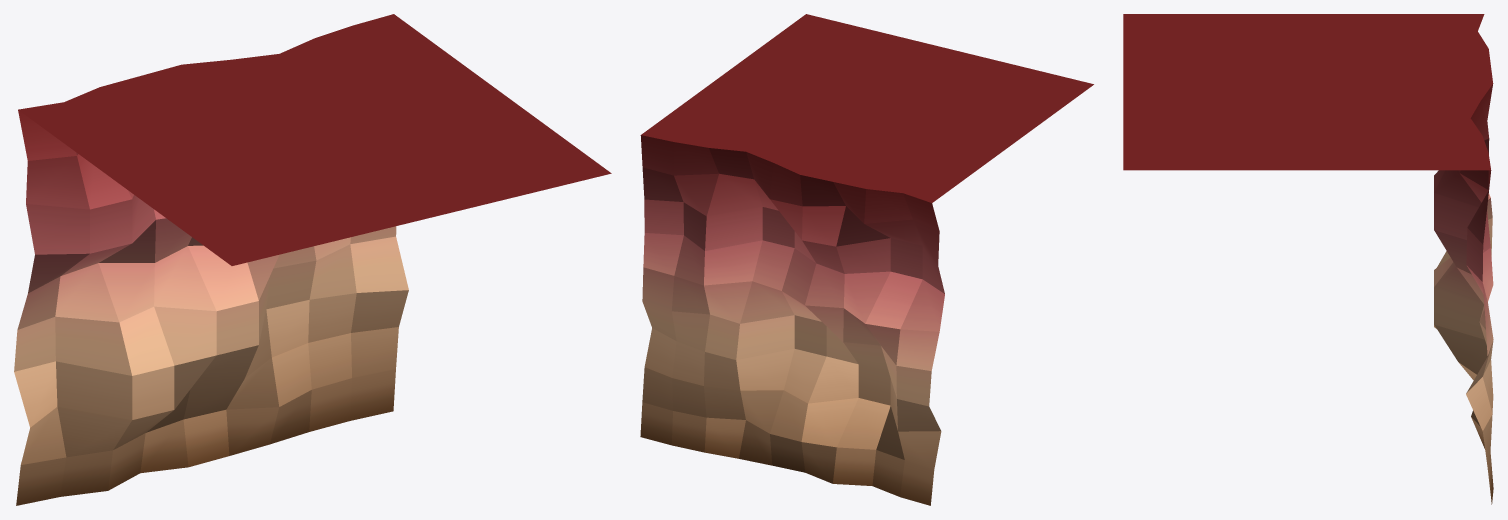
The picture shows the model from 3 angles, left to right: view 1: azimuth 30°, elevation 25°; view 2: azimuth 150°, elevation 25°; view 3: azimuth 270°, elevation 25°; orthographic projection. The views are drawn at different scales.
Visible parts, largest first — view 1: base8.001; view 2: base8.001; view 3: base8.001.
Boxes of the visible parts, x1=… form: base8.001: x1=14, y1=14, x2=611, y2=505; base8.001: x1=640, y1=14, x2=1093, y2=505; base8.001: x1=1123, y1=14, x2=1493, y2=504.
Size of the model in its own units: 100 by 100 by 100.
